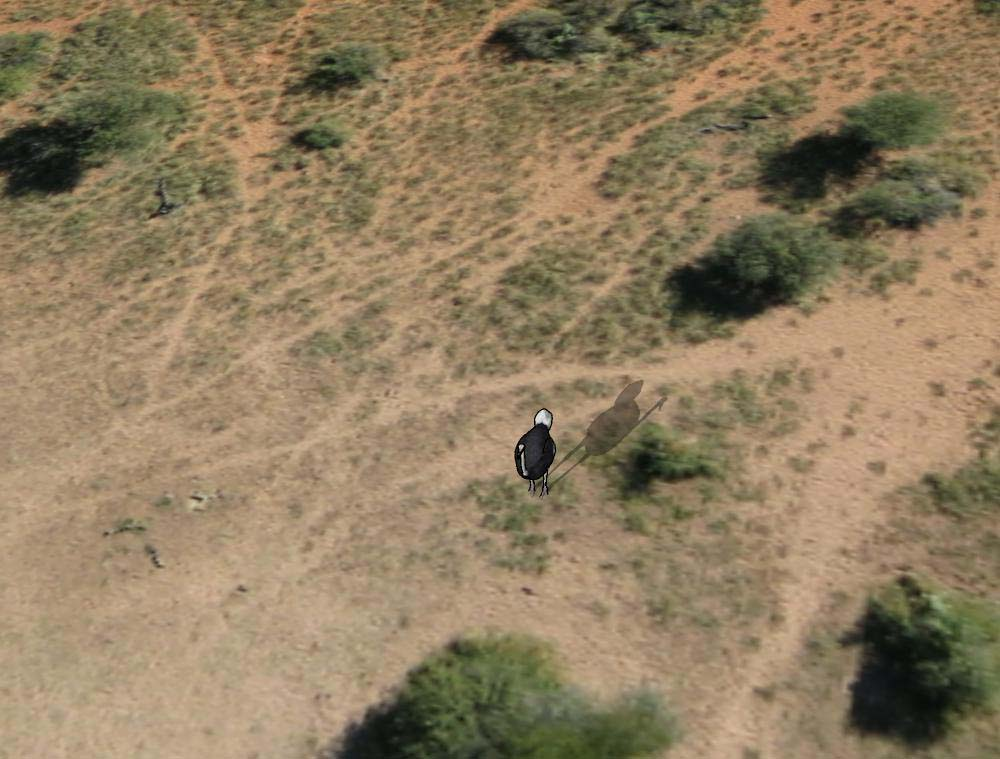ostrich: (511, 403, 559, 495)
